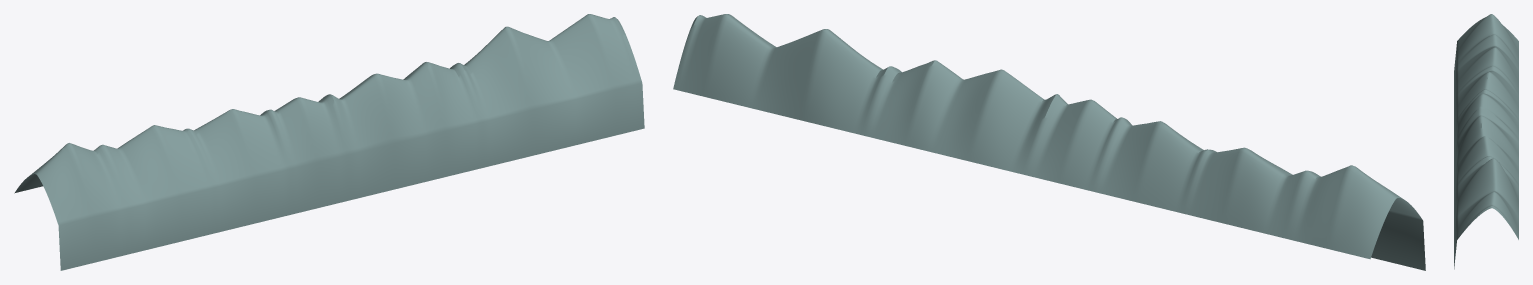
Rendered from range_meadow_near.glb.
3 renders of one model, left to right at view 1: azimuth 30°, elevation 25°; view 2: azimuth 150°, elevation 25°; view 3: azimuth 270°, elevation 25°, orthographic. The views are drawn at different scales.
Parts seen in each view (by area): view 1: land; view 2: land; view 3: land.
Boxes of the visible parts, bbox=[...] form: land: bbox=[14, 14, 644, 270]; land: bbox=[673, 14, 1425, 270]; land: bbox=[1454, 14, 1518, 269].
Bounding box in the file's own units: 520 × 91.52 × 71.61.
